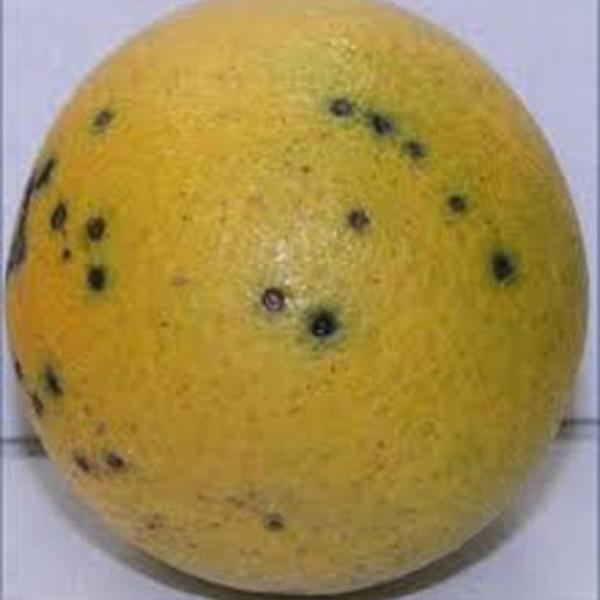Trips: (0, 0, 594, 598)
